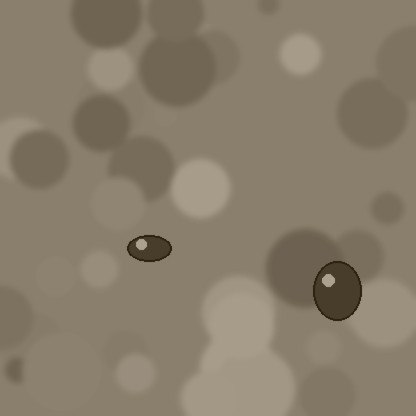gota: (313, 263, 361, 325), (127, 236, 171, 264)
